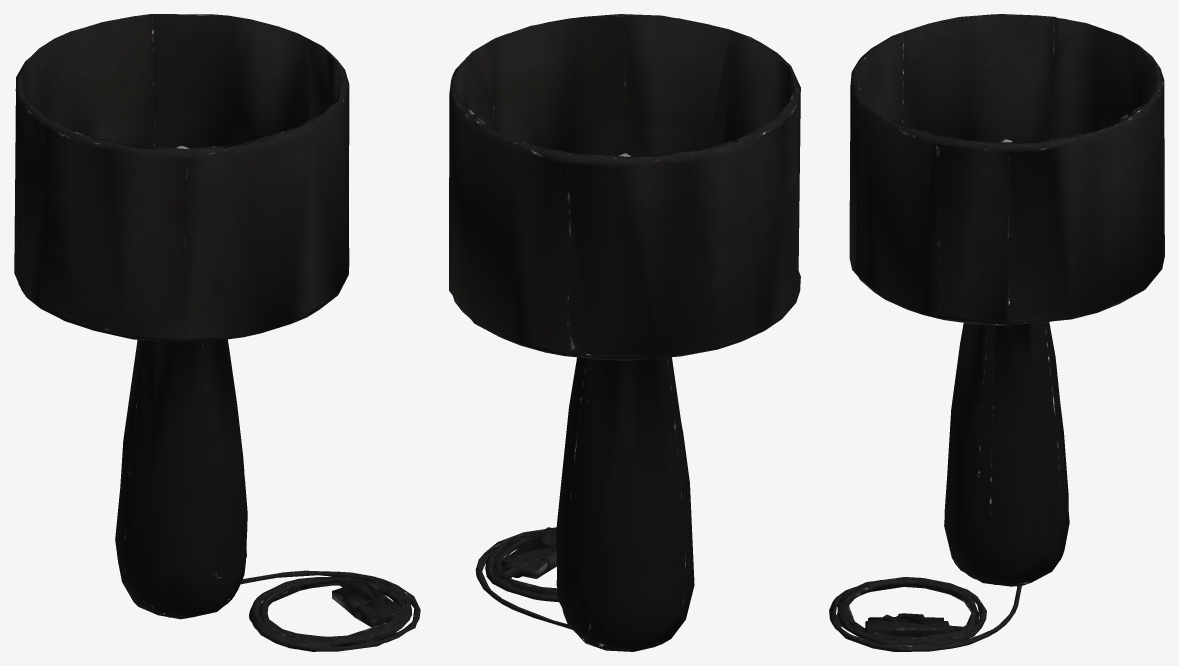
The model's file is Wf2EcOz9uD3tt7pp46LUY.glb.
3 views of the same model, side by side, from view 1: azimuth 30°, elevation 25°; view 2: azimuth 150°, elevation 25°; view 3: azimuth 270°, elevation 25° (orthographic). The views are drawn at different scales.
Parts seen in each view (by area): view 1: geometry_0; view 2: geometry_0; view 3: geometry_0.
Boxes of the visible parts, x1,y1,x2,y2 form: geometry_0: (14,14,420,651); geometry_0: (449,14,800,651); geometry_0: (829,14,1164,651).
Size of the model in its own units: 0.6425 by 1 by 0.6143.
Materials: 1 (1 with a texture image).
